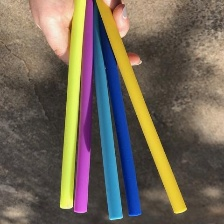drinking_straw: (92, 0, 190, 219), (54, 0, 90, 214)
